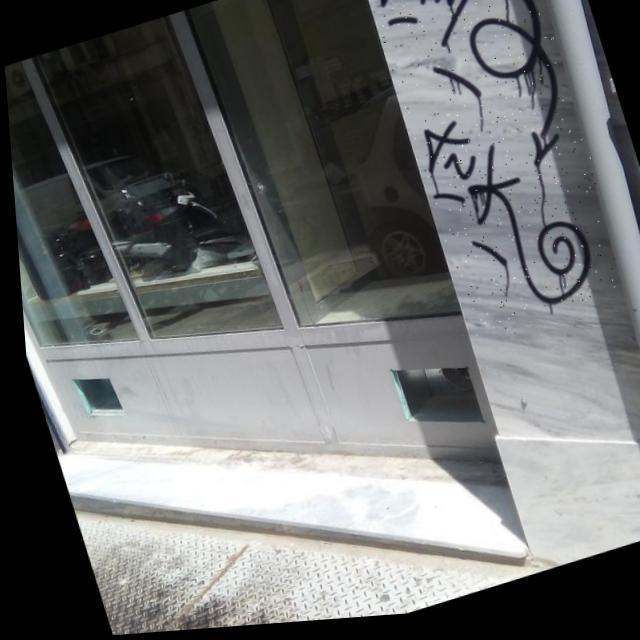-: (357, 0, 628, 350)
